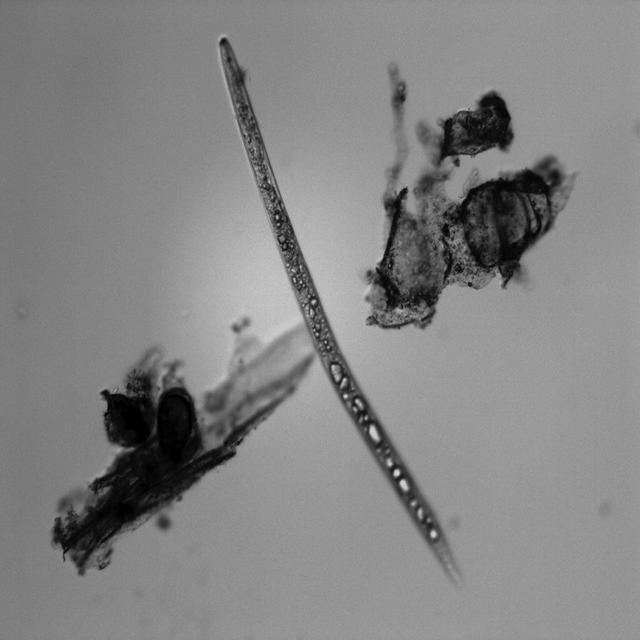Radopholus: (211, 30, 473, 606)
